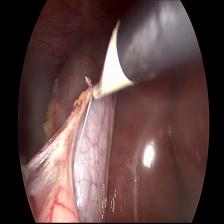Hook: (82, 14, 132, 99)
